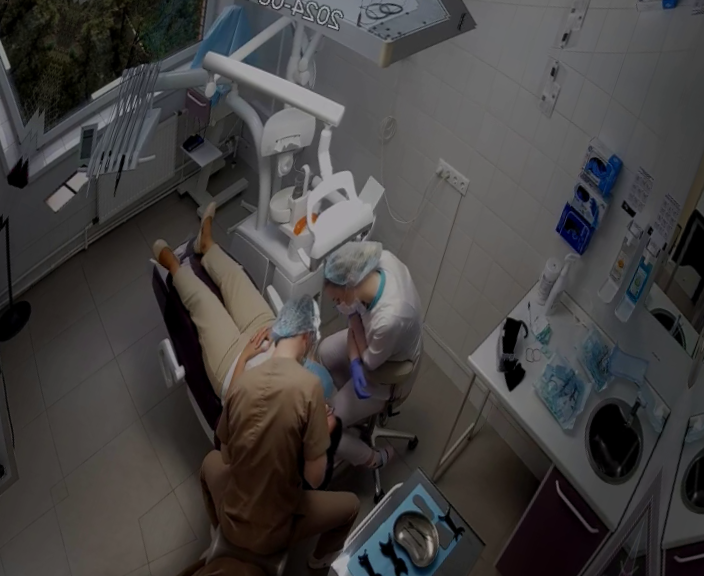Patient: (91, 183, 405, 496)
